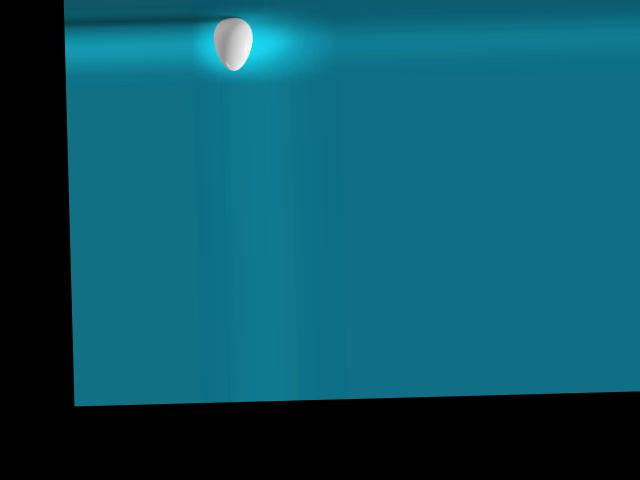egg: (212, 16, 253, 70)
